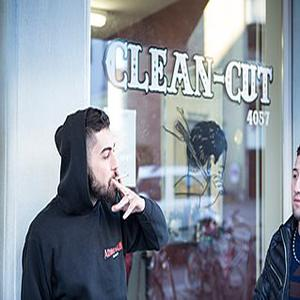cigarette: (112, 173, 130, 184)
